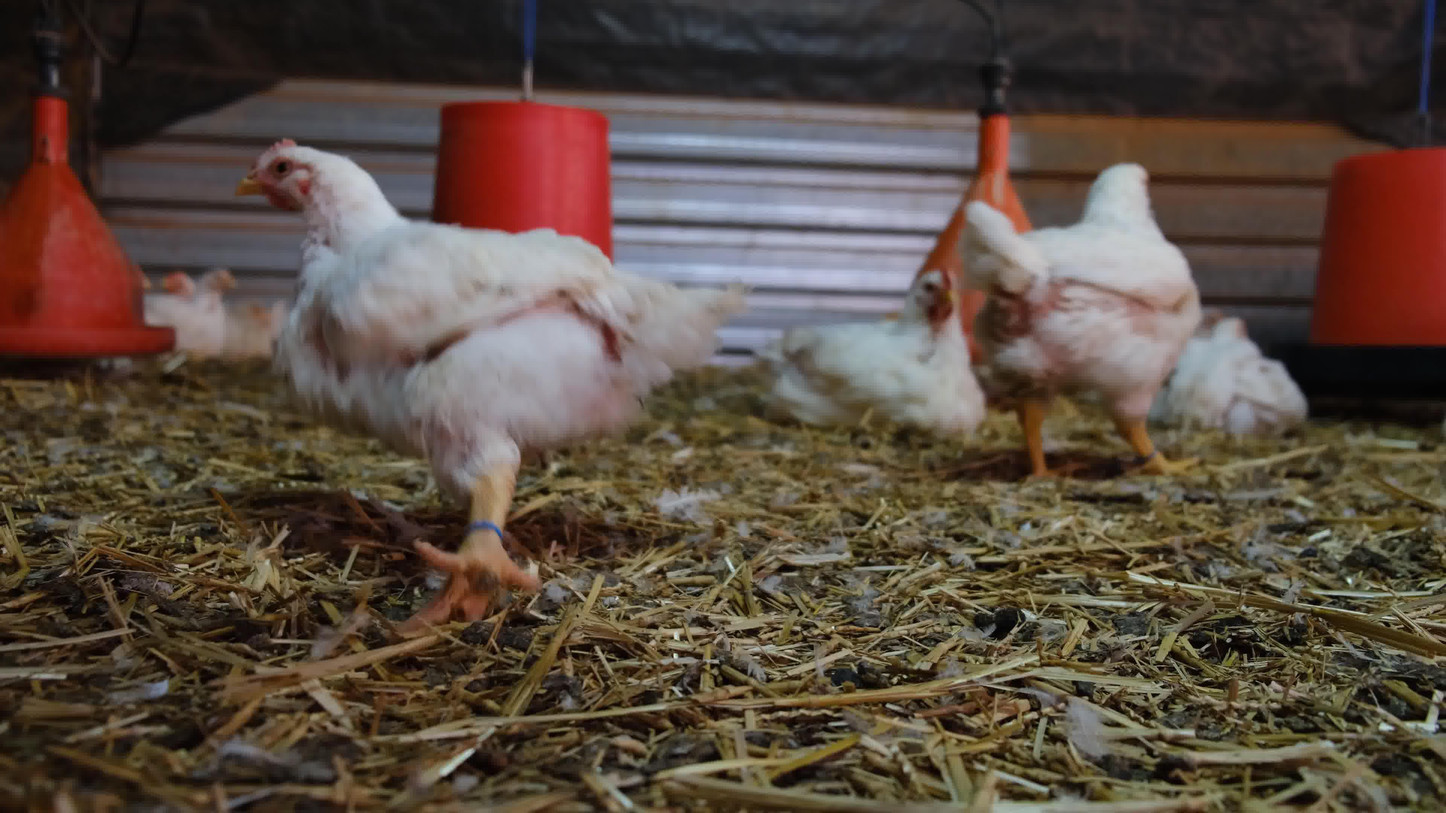AbNormal: (759, 256, 1004, 448), (1190, 303, 1316, 457), (230, 279, 297, 378)
Normal: (226, 124, 746, 625), (940, 145, 1220, 482), (132, 250, 262, 363)
